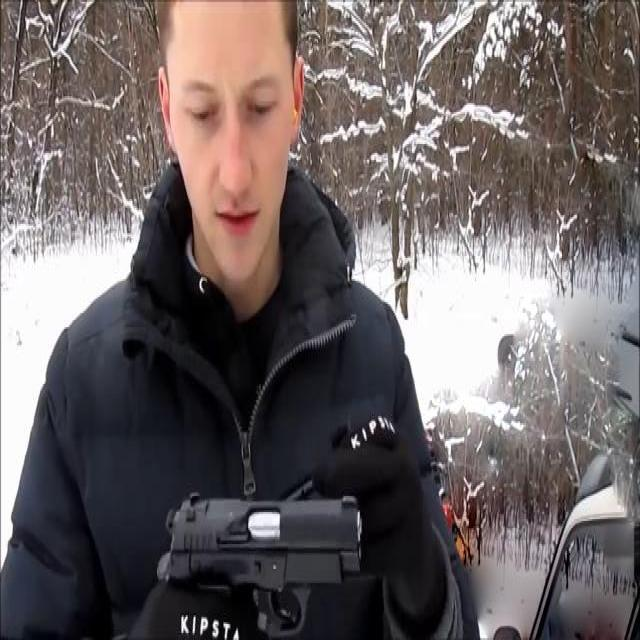pistol: (155, 490, 371, 640)
